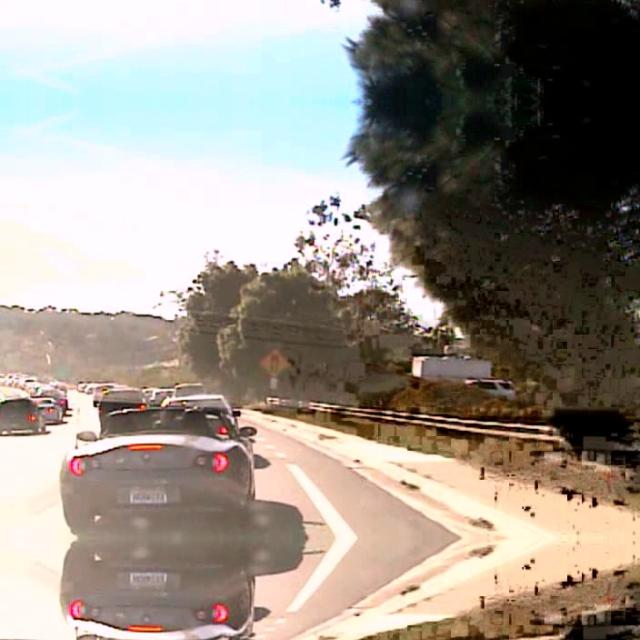signalAhead: (258, 347, 290, 377)
